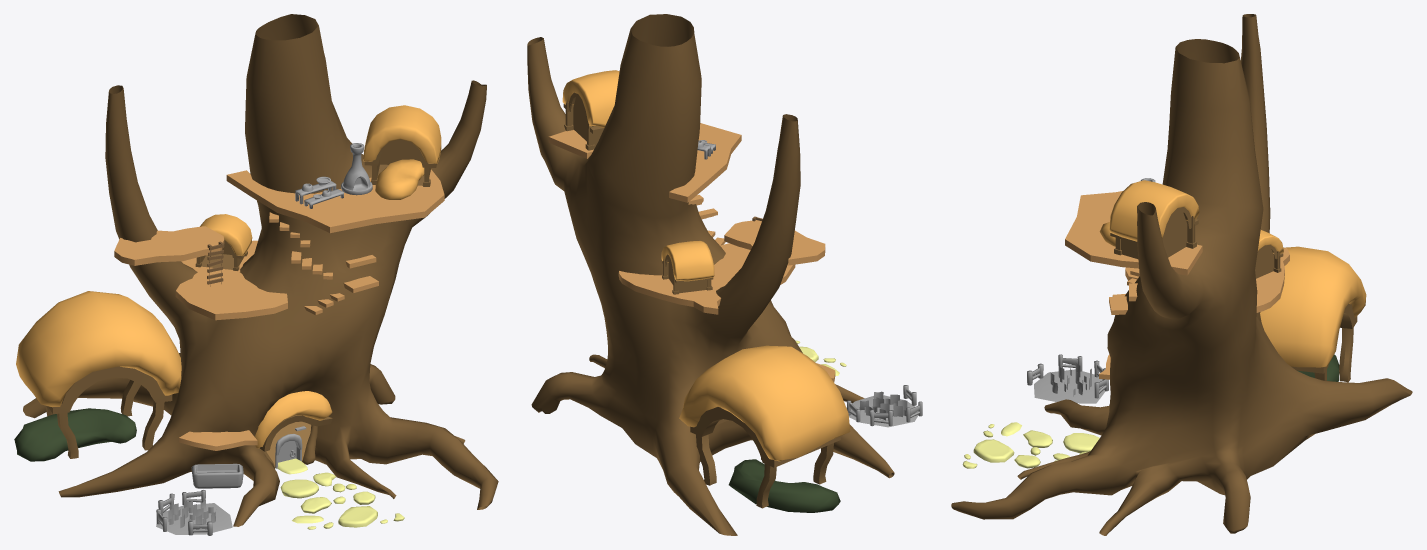
The model's file is Den(1).fbx.
3 views of the same model, side by side, from view 1: azimuth 30°, elevation 25°; view 2: azimuth 150°, elevation 25°; view 3: azimuth 270°, elevation 25° (orthographic). The views are drawn at different scales.
Parts seen in each view (by area): view 1: Tree, House_Left, Platforms, House_Top, House_Main, Grass_Cot, Clovers, Watertray, House_Mid, Stairs_Window, Fireplace, pCube18 (+1 smaller); view 2: Tree, House_Left, Platforms, House_Top, Grass_Cot, House_Mid, Clovers; view 3: Tree, House_Left, House_Top, Platforms, Clovers, House_Mid, pCube18, Stairs_Window, pCube15.
Part boxes in pixels (box(x1,y1,x2,y2)): Tree: box(23, 14, 498, 526); House_Left: box(16, 291, 181, 458); Platforms: box(114, 169, 444, 320); House_Top: box(363, 105, 441, 199); House_Main: box(255, 391, 332, 474); Grass_Cot: box(14, 408, 136, 461); Clovers: box(156, 490, 232, 535); Watertray: box(179, 430, 257, 488); House_Mid: box(195, 214, 252, 270); Stairs_Window: box(269, 212, 378, 314); Fireplace: box(341, 143, 372, 195); pCube18: box(338, 506, 377, 527); Tree: box(527, 14, 894, 535); House_Left: box(679, 345, 850, 508); Platforms: box(548, 123, 825, 314); House_Top: box(562, 70, 619, 150); Grass_Cot: box(728, 459, 840, 512); House_Mid: box(661, 241, 714, 294); Clovers: box(846, 385, 922, 427); Tree: box(951, 14, 1412, 535); House_Left: box(1260, 246, 1366, 382); House_Top: box(1099, 180, 1199, 258); Platforms: box(1065, 191, 1289, 312); Clovers: box(1027, 354, 1108, 403); House_Mid: box(1255, 230, 1283, 278); pCube18: box(973, 439, 1014, 462); Stairs_Window: box(1109, 268, 1139, 314); pCube15: box(1063, 433, 1099, 453).
Size of the model in its own units: 3538 by 3525 by 3409.
